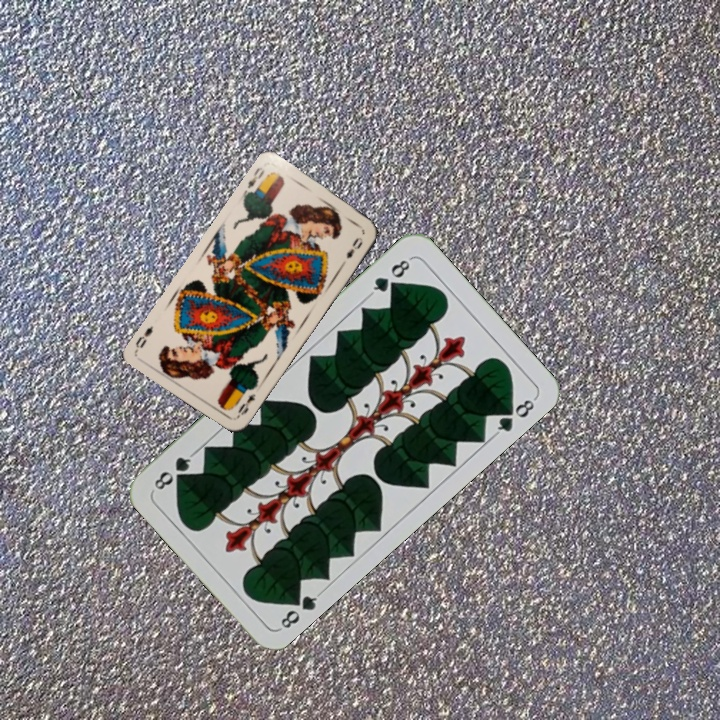EO: (239, 163, 271, 198), (232, 390, 258, 421)
G8: (275, 587, 324, 633), (366, 254, 414, 298)
